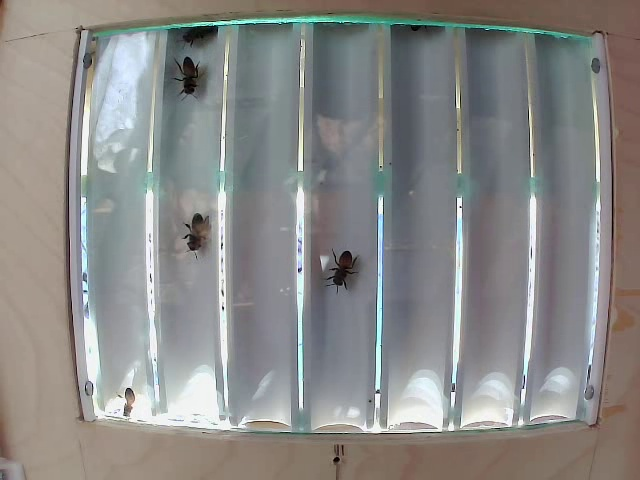bee: (173, 51, 210, 108), (320, 240, 363, 285), (181, 216, 219, 259)
